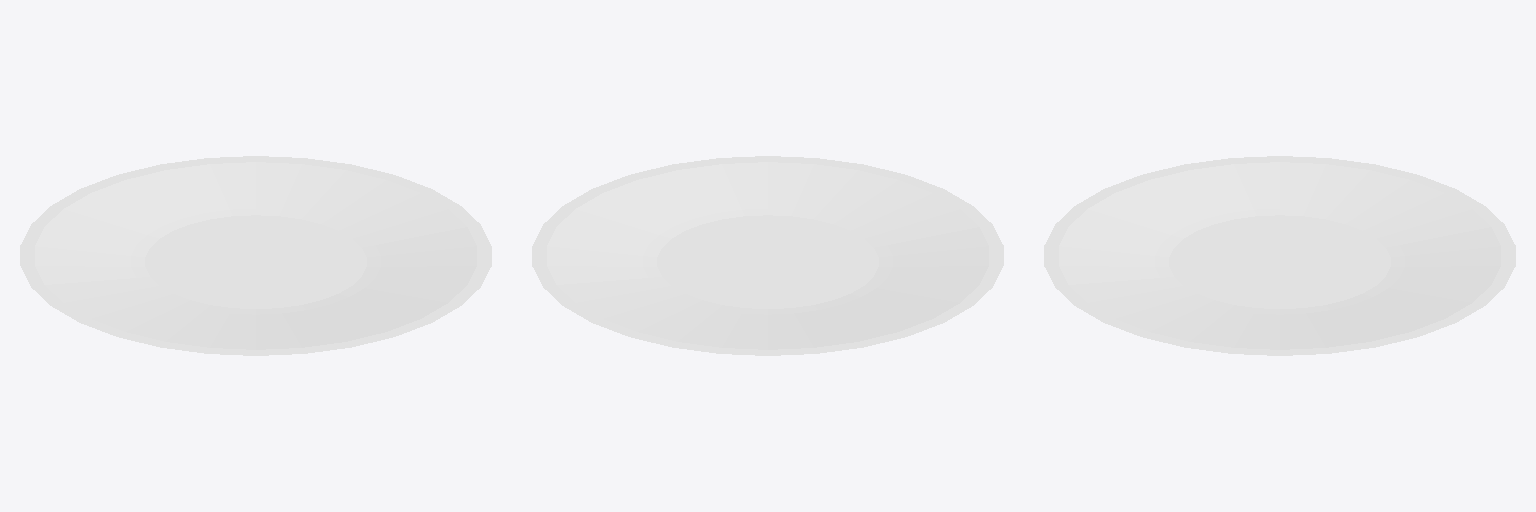
robot.urdf — cube:
<?xml version="1.0"?>
<robot name="cube">
  <!-- Frying pan model, Copyright (c) 2016 Oleg Klimov       -->
  <!-- LICENSE: CC-SA                                         -->
  <link name="cube">
    <visual>
      <origin rpy="0 0 0" xyz="0 0 0"/>
      <geometry>
        <mesh filename="plate.obj" scale="1.0 1.0 .05"/>
      </geometry>
      <material name="white">  <!-- forces it to actually use the image for its colour -->
        <color rgba="1 1 1 1"/>
      </material>
    </visual>

    <collision>  <!-- bottom -->
      <geometry>
        <cylinder radius="0.05" length="0.005"/>
      </geometry>
      <origin rpy="0 0 0" xyz="0 0 0.0025"/>
    </collision>

    <collision>
      <geometry>
        <mesh filename="plate-collision01.obj" scale="1.0 1.0 .05"/>
      </geometry>
      <origin rpy="0 0 0" xyz="0 0 0"/>
    </collision>

    <collision>
      <geometry>
        <mesh filename="plate-collision02.obj" scale="1.0 1.0 .05"/>
      </geometry>
      <origin rpy="0 0 0" xyz="0 0 0"/>
    </collision>

    <collision>
      <geometry>
        <mesh filename="plate-collision03.obj" scale="1.0 1.0 .05"/>
      </geometry>
      <origin rpy="0 0 0" xyz="0 0 0"/>
    </collision>

    <collision>
      <geometry>
        <mesh filename="plate-collision04.obj" scale="1.0 1.0 .05"/>
      </geometry>
      <origin rpy="0 0 0" xyz="0 0 0"/>
    </collision>

    <collision>
      <geometry>
        <mesh filename="plate-collision05.obj" scale="1.0 1.0 .05"/>
      </geometry>
      <origin rpy="0 0 0" xyz="0 0 0"/>
    </collision>

    <collision>
      <geometry>
        <mesh filename="plate-collision06.obj" scale="1.0 1.0 .1"/>
      </geometry>
      <origin rpy="0 0 0" xyz="0 0 0"/>
    </collision>

    <inertial>
      <mass value="0.1"/>  <!-- mr^2 = 0.5*0.12^2 = 0.0072 for Z axis, lighter along other axis -->
      <inertia ixx="0.005" iyy="0.005" izz="0.0072"/>
    </inertial>
  </link>

</robot>

--- Facts derived from the render (not from the file) ---
Views: 3 orthographic renders of the robot side by side, from view 1: azimuth 30°, elevation 25°; view 2: azimuth 150°, elevation 25°; view 3: azimuth 270°, elevation 25°.
Model cube with 1 links and 0 joints (none), rooted at cube, posed every joint at zero.
Visible links, largest first — view 1: cube; view 2: cube; view 3: cube.
Link boxes in pixels (<box>): cube: <box>20,156,491,355</box>; cube: <box>532,156,1003,355</box>; cube: <box>1044,156,1515,355</box>.
Size in the robot's own frame: 0.196 by 0.1949 by 0.003 metres.
Meshes: 1 distinct files referenced, 1 mesh visuals loaded (1 OBJ).
